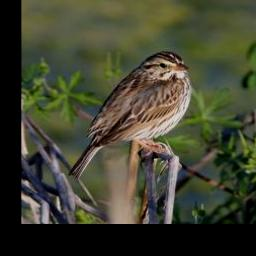Sparrow: (68, 50, 193, 180)
